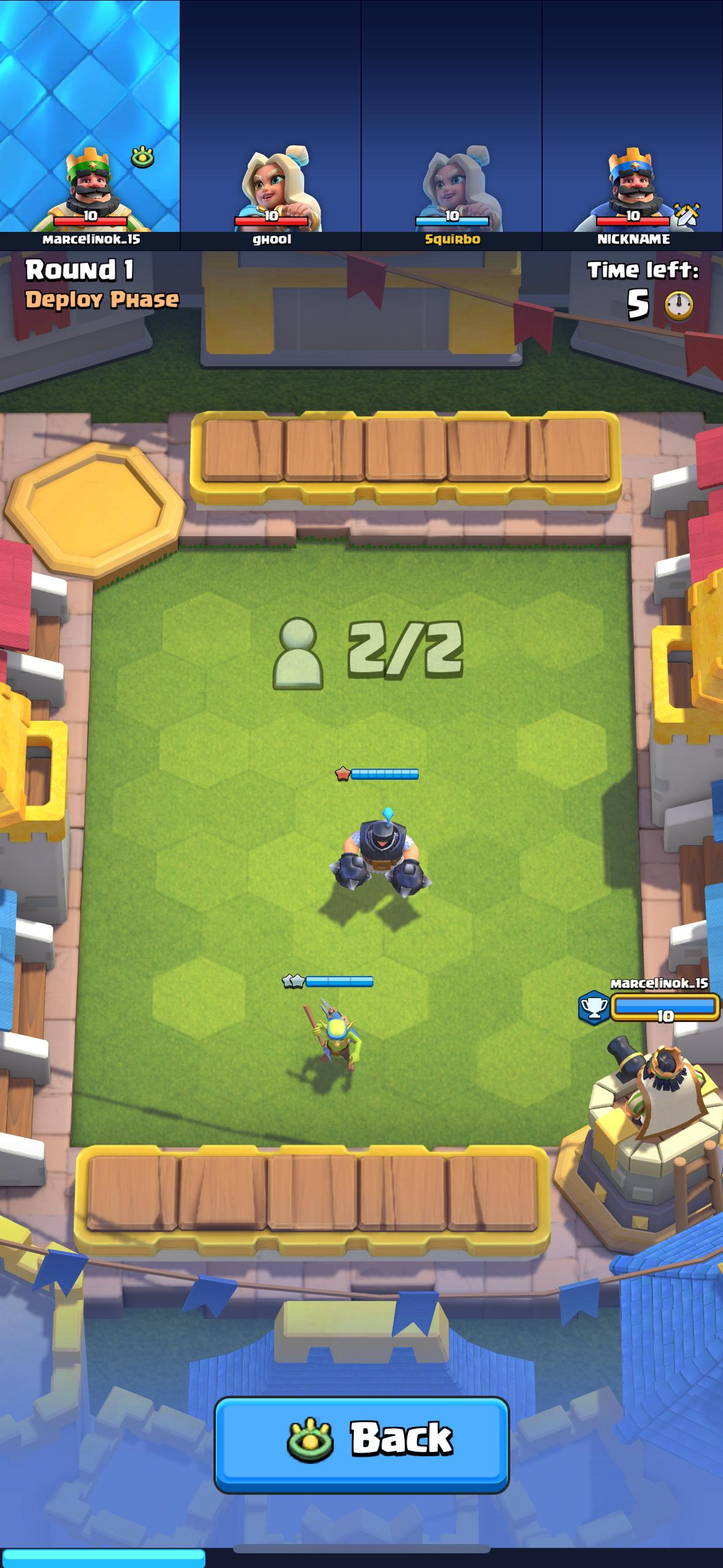mega: (333, 805, 435, 901)
spear: (303, 1002, 365, 1074)
